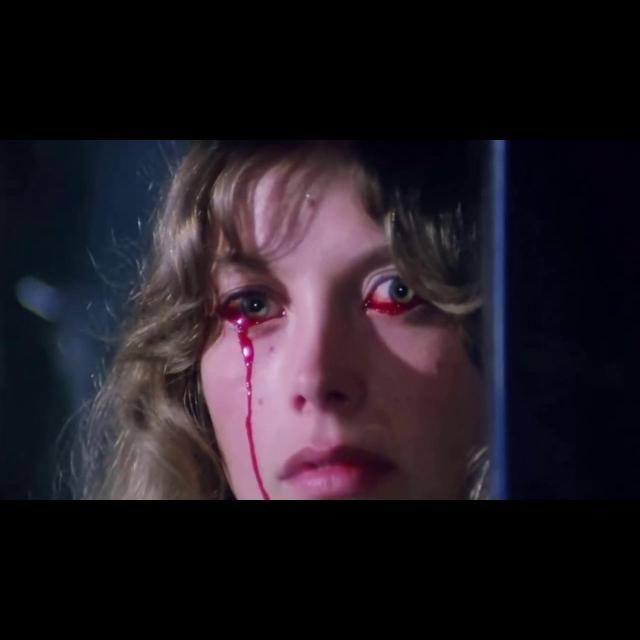blood: (222, 308, 269, 500), (364, 280, 422, 315)
